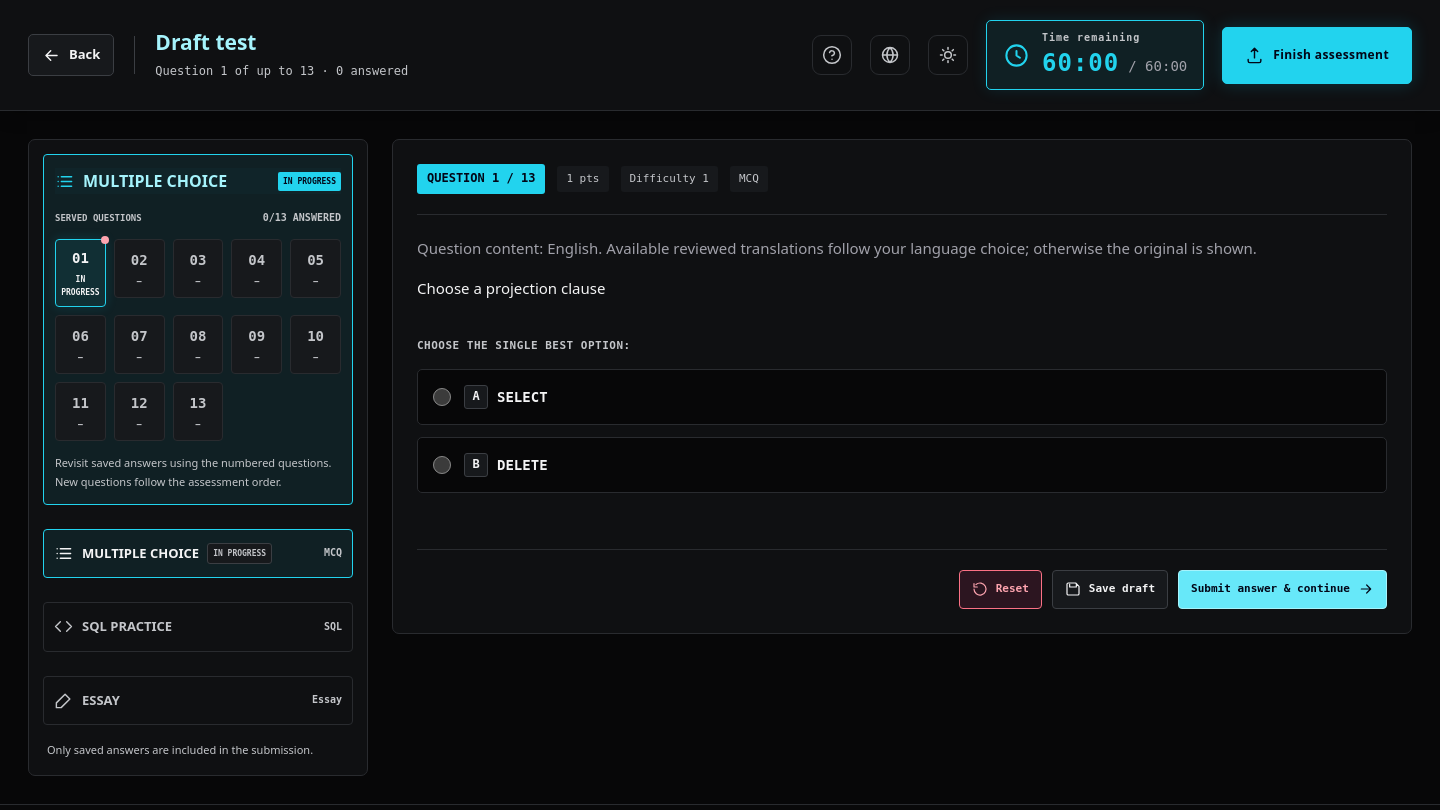
recovers the authoritative next question after a lost submission response
The image size is (1440, 810).
Step 1. Click the text "SELECT" → point(522, 397), box x1=497 y1=385 x2=548 y2=409
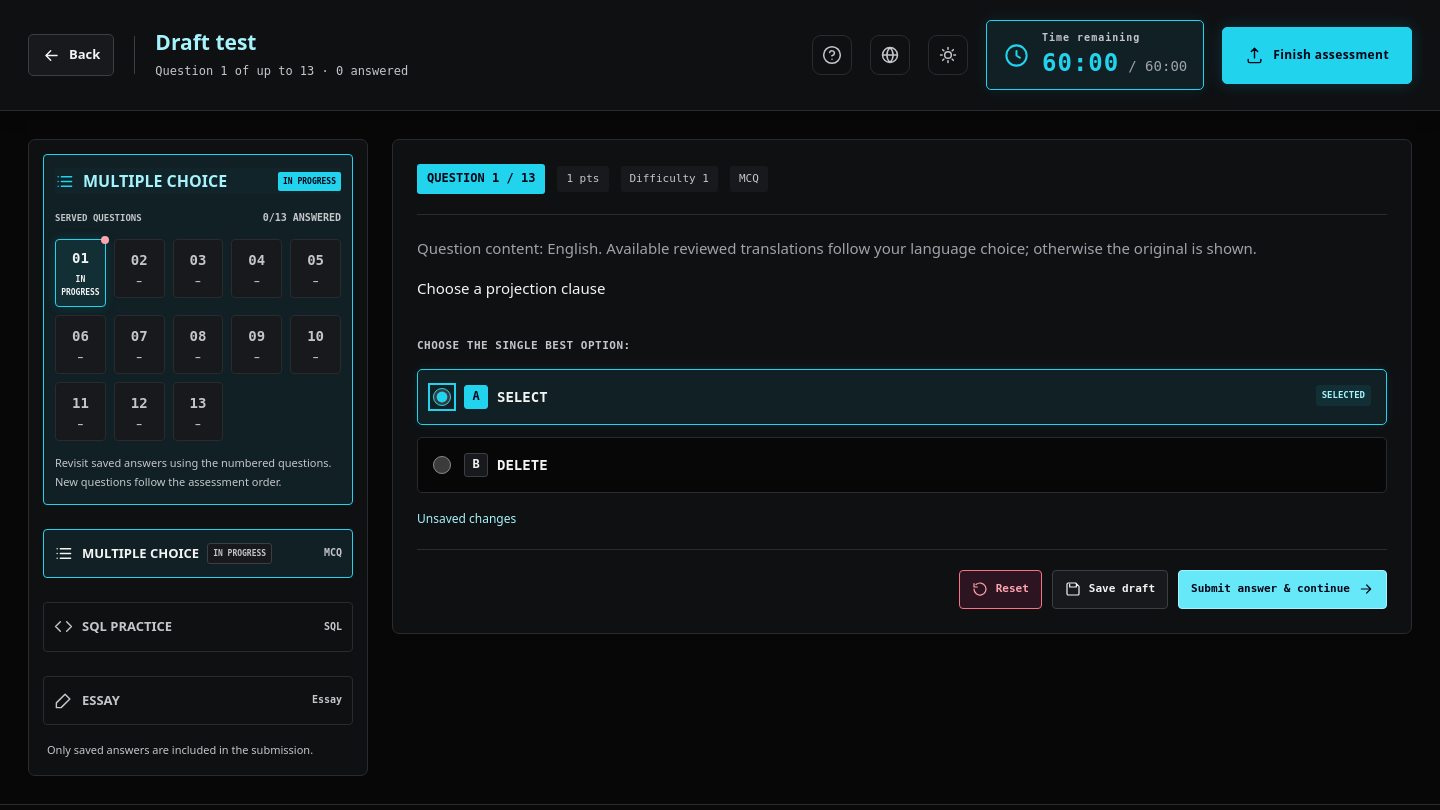
Step 2. Click the button "Submit answer & continue" → point(1282, 590), box x1=1178 y1=570 x2=1387 y2=609
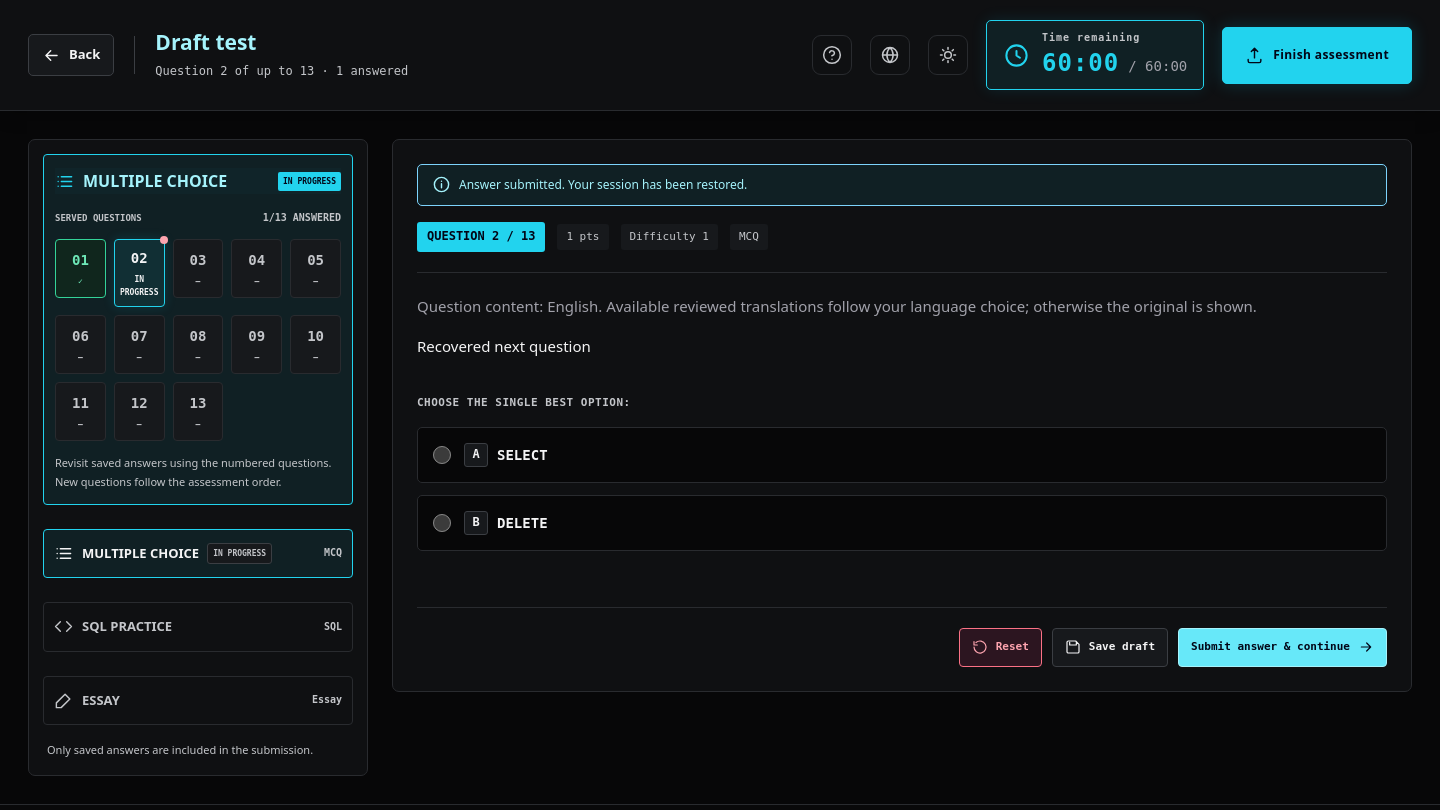
Now the text "Recovered next question" is shown, box x1=417 y1=336 x2=591 y2=356
Now the text "Choose a projection clause" is gone
Now the text "Answer submitted. Your session has been restored." is shown, box x1=459 y1=175 x2=747 y2=195
